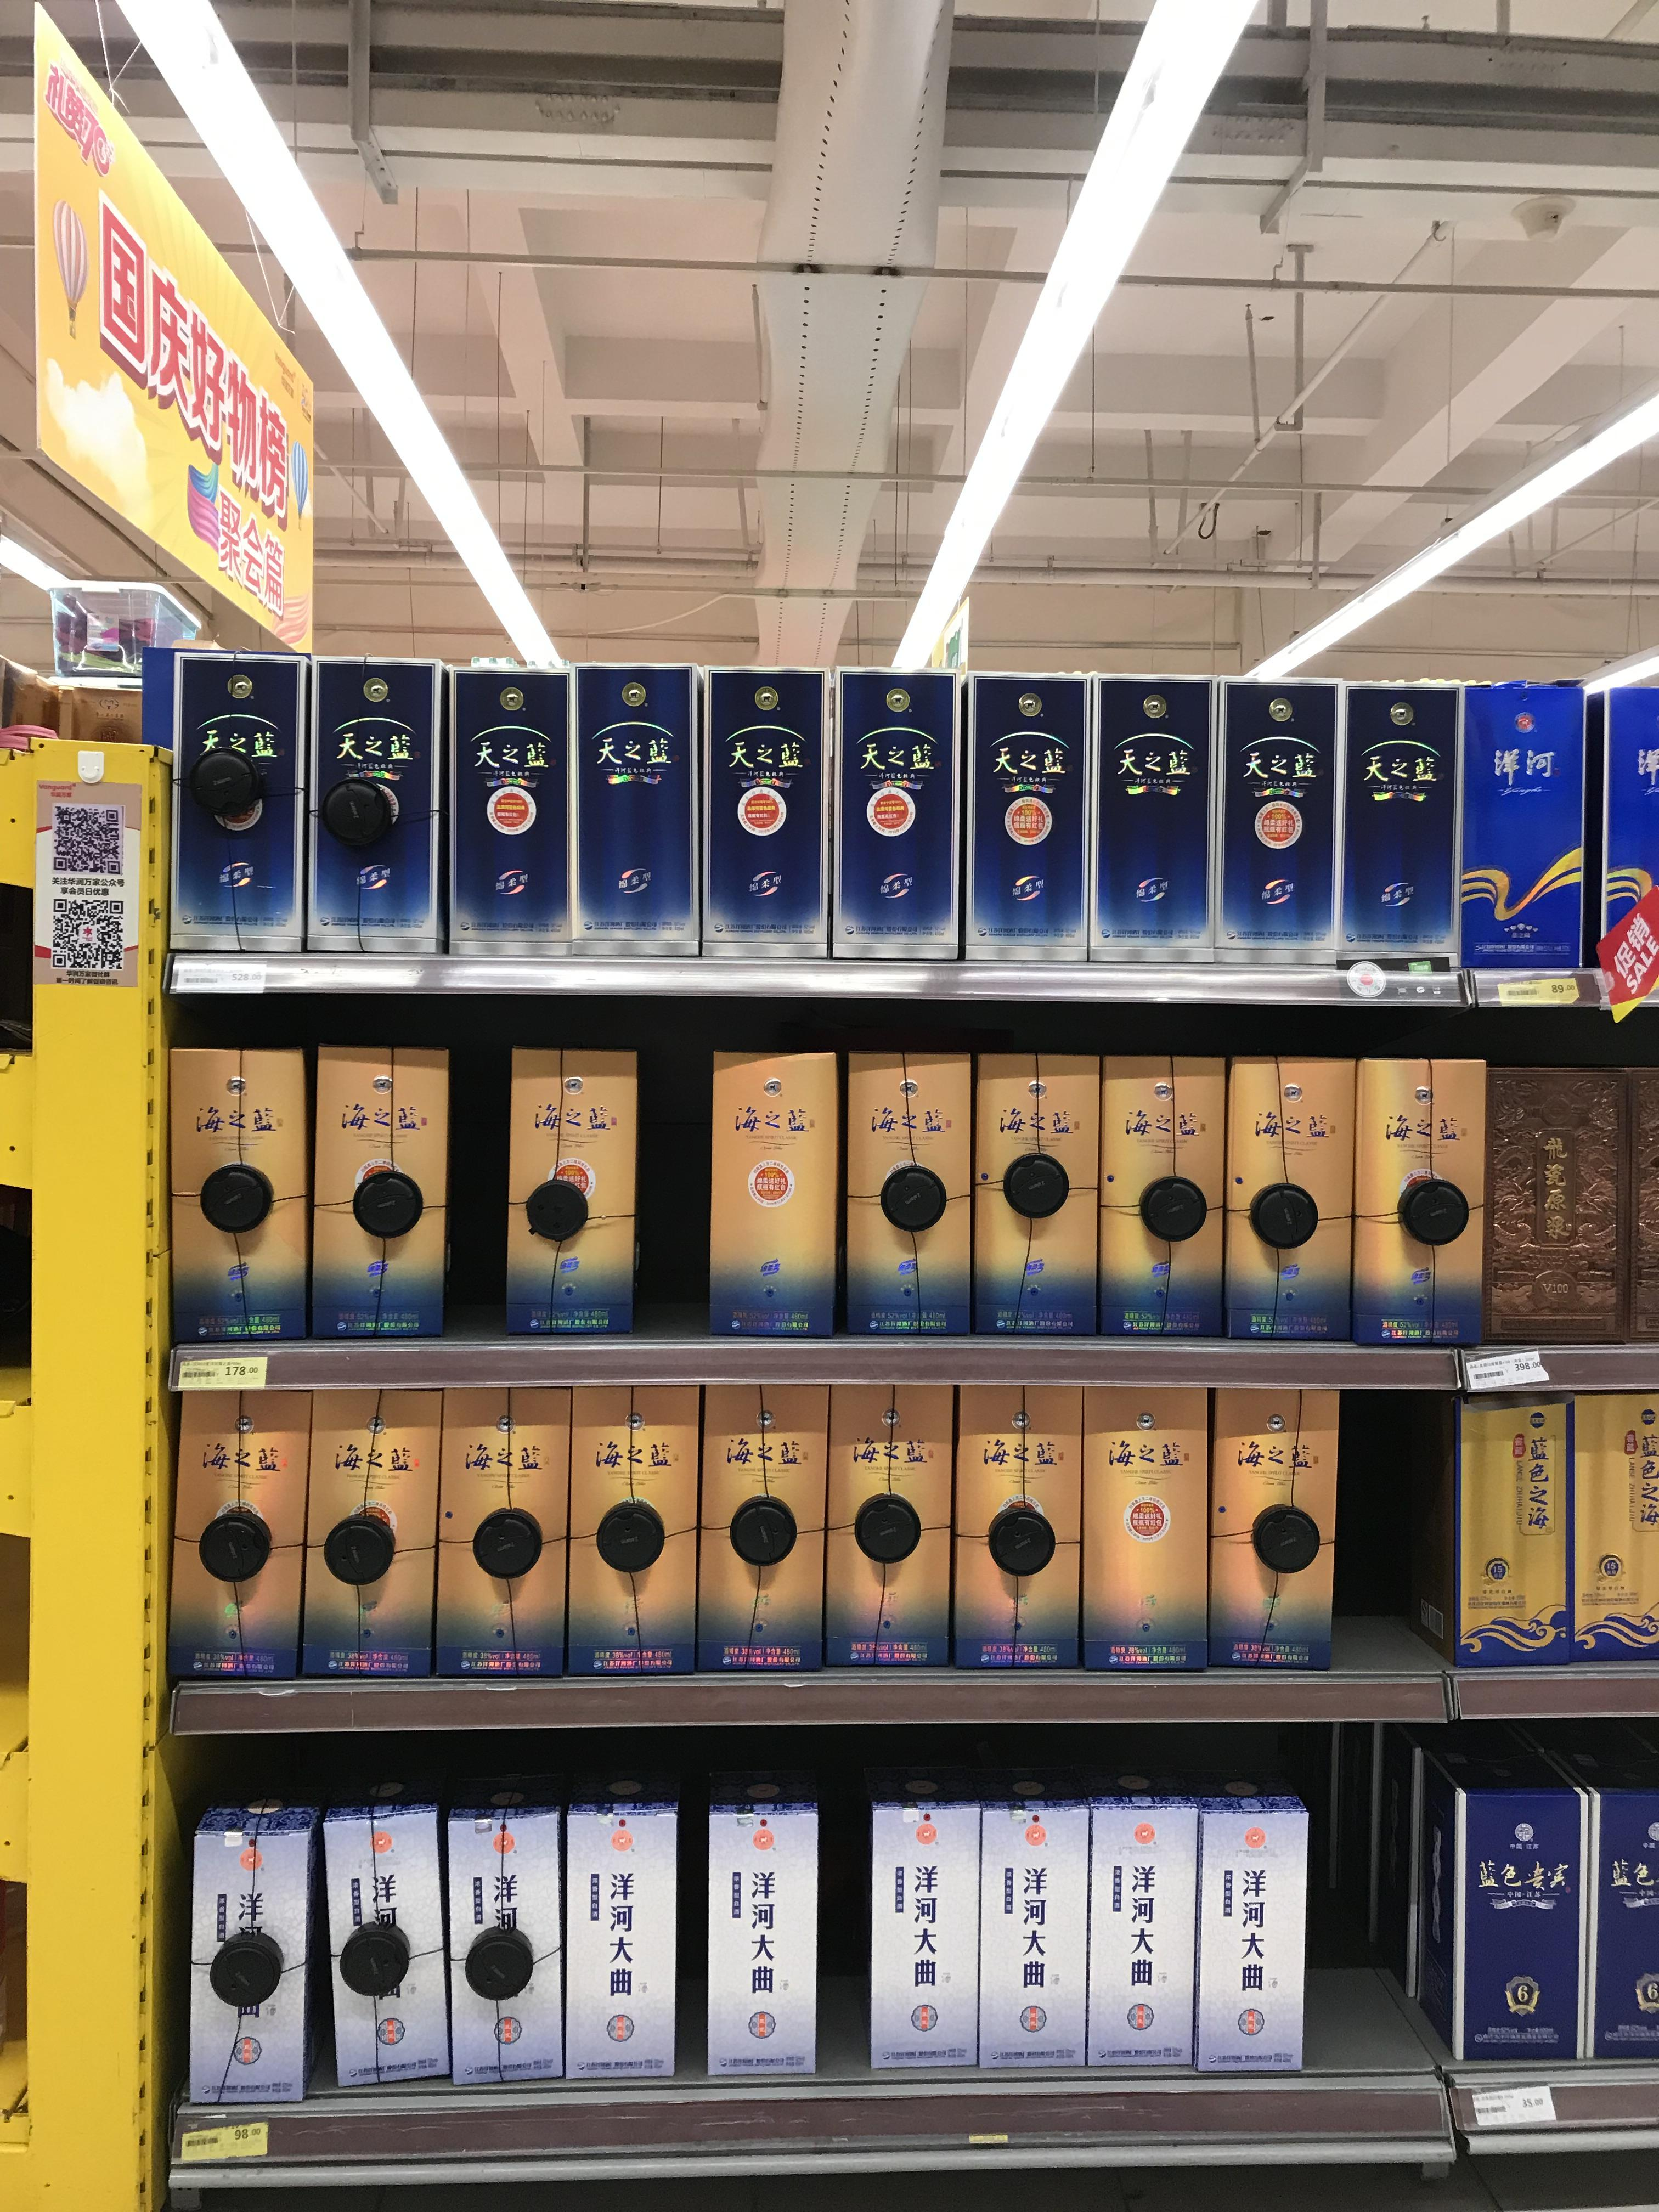bottle: (830, 636, 960, 963), (964, 644, 1089, 967), (1331, 655, 1459, 961), (308, 650, 437, 951), (1091, 660, 1218, 965), (504, 1040, 634, 1336), (697, 650, 823, 958), (568, 650, 694, 954), (444, 651, 568, 958), (1209, 1376, 1335, 1672), (1215, 665, 1338, 963), (702, 1784, 824, 2081), (192, 1799, 301, 2114), (849, 1050, 969, 1336), (875, 1782, 985, 2074), (331, 1797, 429, 2097)
box: (1419, 1761, 1591, 2069), (1460, 1059, 1636, 1341), (157, 648, 300, 968), (1450, 674, 1598, 979), (1347, 1057, 1488, 1353), (967, 1049, 1103, 1350), (303, 1379, 436, 1688), (568, 1383, 706, 1679), (173, 1369, 300, 1684), (701, 1383, 833, 1681), (831, 1383, 964, 1674), (443, 1381, 572, 1679), (704, 1047, 833, 1343), (958, 1386, 1091, 1669), (1438, 1379, 1563, 1667), (1091, 1386, 1220, 1656), (985, 1791, 1105, 2076), (1213, 1386, 1331, 1674), (1080, 1794, 1199, 2074), (568, 1785, 678, 2085), (453, 1791, 559, 2088), (1100, 1059, 1208, 1345), (1549, 1371, 1652, 1667), (1248, 1061, 1351, 1339), (1574, 1777, 1659, 2081)
jar: (173, 1040, 295, 1350), (315, 1043, 437, 1346)
